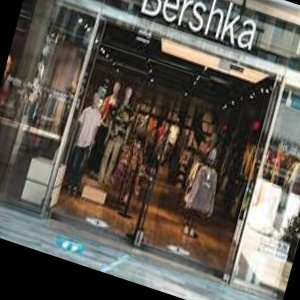bershka: (208, 0, 300, 36)
